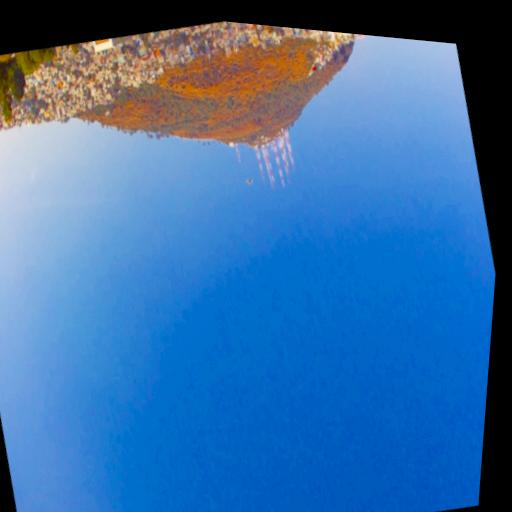drones: (240, 172, 260, 195)
